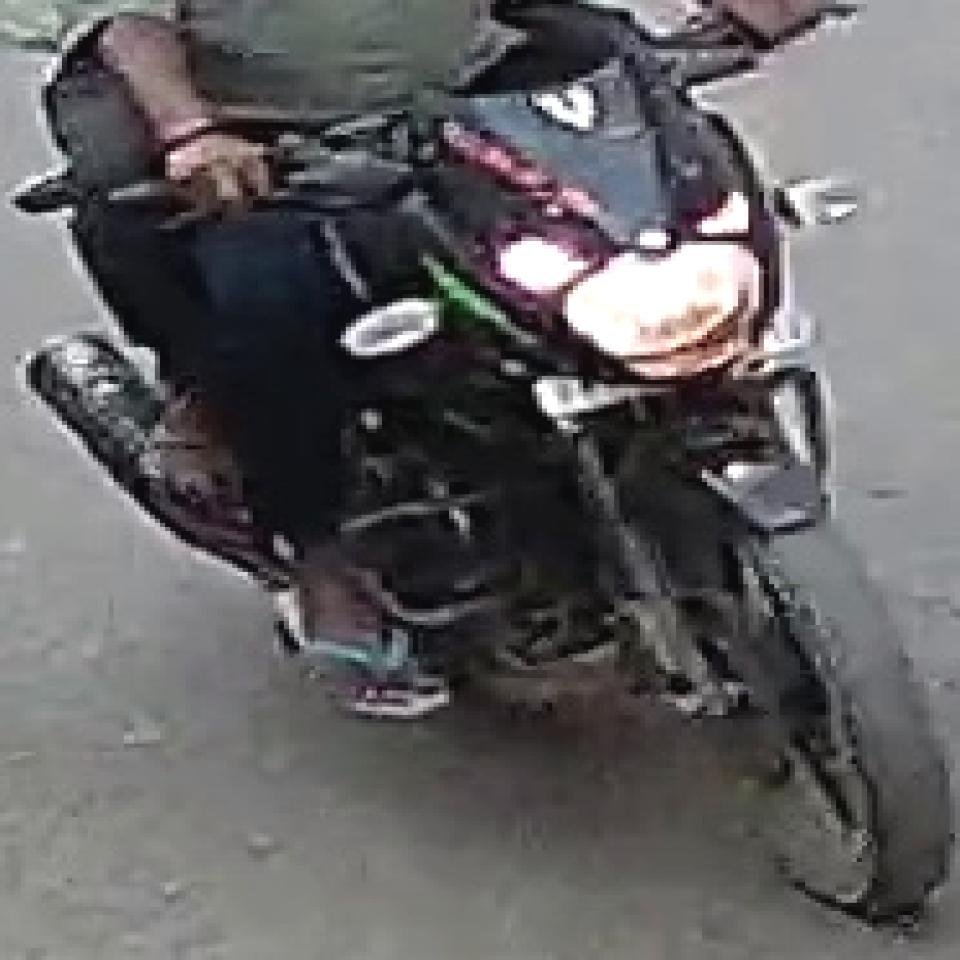head_light: (497, 187, 763, 382)
